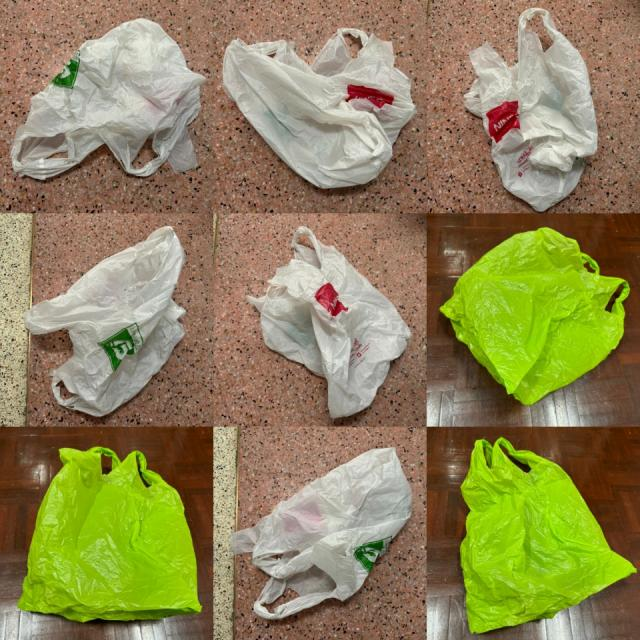Single-layer Plastic: (460, 438, 635, 632), (440, 228, 630, 405), (19, 448, 201, 621), (248, 226, 410, 419), (12, 19, 205, 180), (230, 448, 411, 619), (224, 29, 416, 188), (25, 226, 185, 416), (465, 8, 598, 211)
